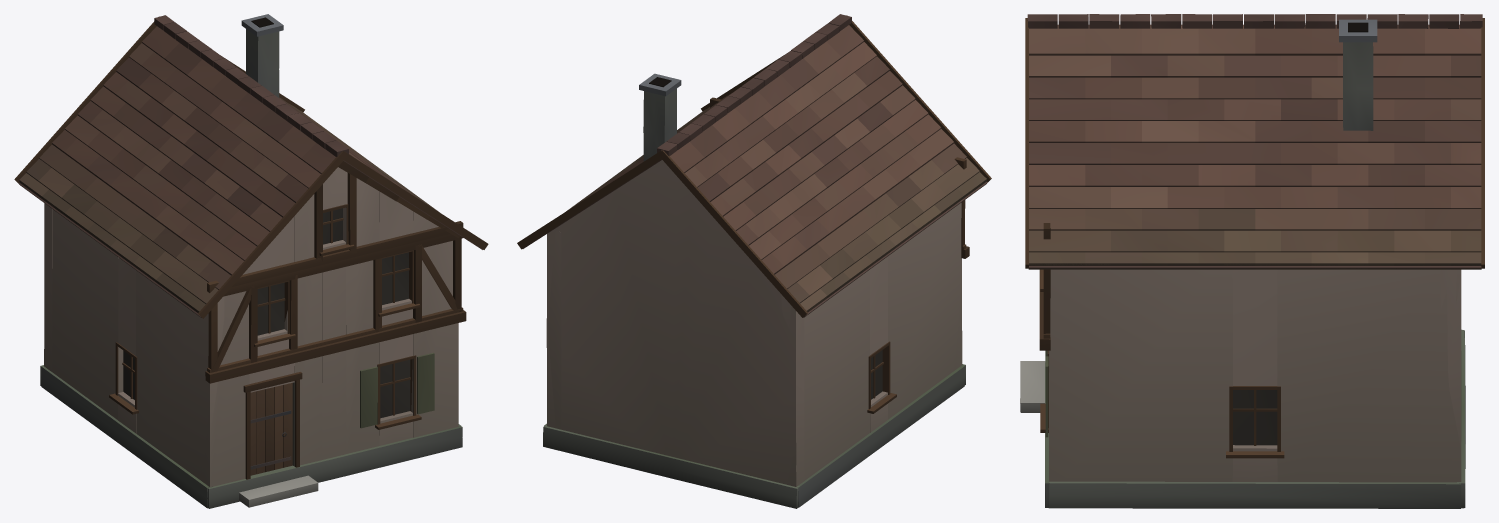
File: ph_bld_v_house_c.glb
3 views of the same model, side by side, from view 1: azimuth 30°, elevation 25°; view 2: azimuth 150°, elevation 25°; view 3: azimuth 270°, elevation 25° (orthographic). The views are drawn at different scales.
Visible parts, largest first — view 1: ph_bld_v_house_c; view 2: ph_bld_v_house_c; view 3: ph_bld_v_house_c.
Part boxes in pixels (bbox=[...]): ph_bld_v_house_c: bbox=[14, 14, 488, 508]; ph_bld_v_house_c: bbox=[517, 14, 991, 508]; ph_bld_v_house_c: bbox=[1020, 14, 1484, 508].
Bounding box in the file's own units: 6.05 × 7.02 × 6.77.
